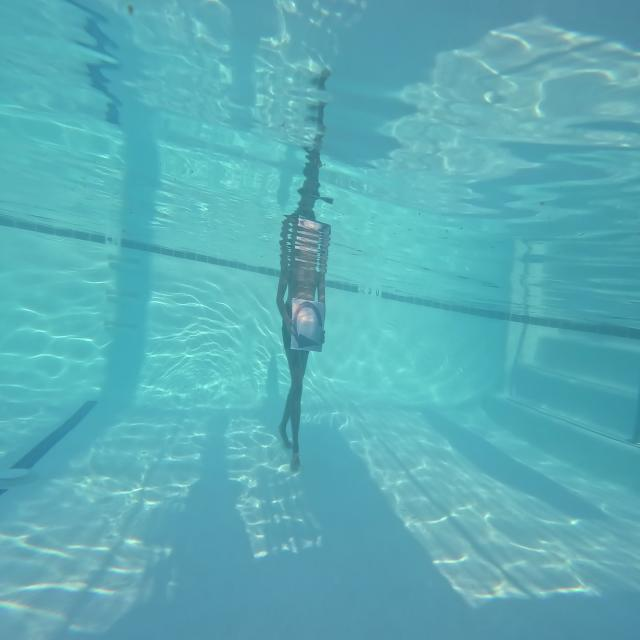blue_side: (290, 292, 325, 351)
